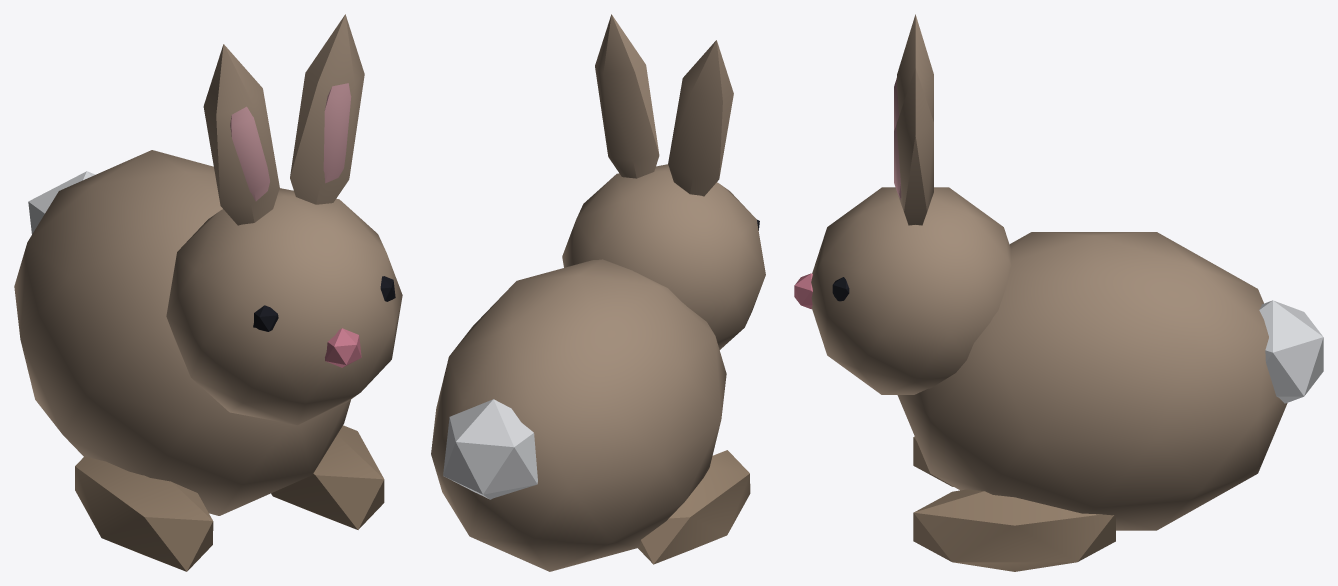
File: a_rabbit.glb
The picture shows the model from 3 angles, left to right: view 1: azimuth 30°, elevation 25°; view 2: azimuth 150°, elevation 25°; view 3: azimuth 270°, elevation 25°; orthographic projection. The views are drawn at different scales.
Parts seen in each view (by area): view 1: body, ears; view 2: body, ears; view 3: body, ears.
Part boxes in pixels (x1,y1,x2,y2): body: (14,150,402,571); ears: (203,14,364,225); body: (431,164,765,571); ears: (595,14,733,196); body: (794,187,1323,571); ears: (894,14,933,225).
Size of the model in its own units: 0.2749 by 0.5483 by 0.5331.
